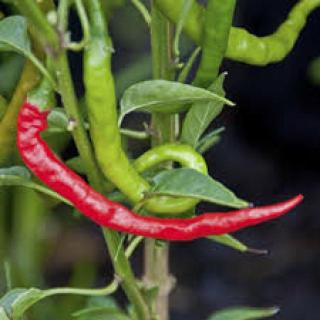Cabai Hijau: (83, 32, 209, 209)
Cabai Merah: (18, 93, 305, 242)
